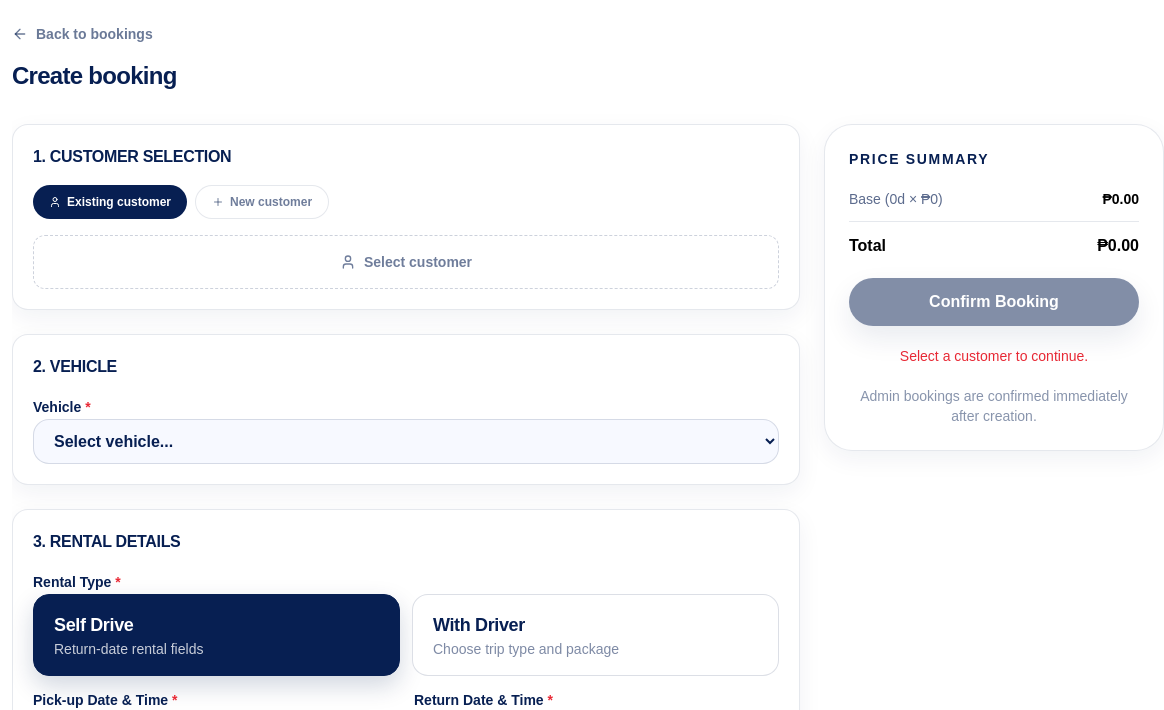
Test: AdminBookingsCreate › switches between existing and new customer modes
Click the button "New customer". click: (262, 202)
box: [195, 185, 329, 219]
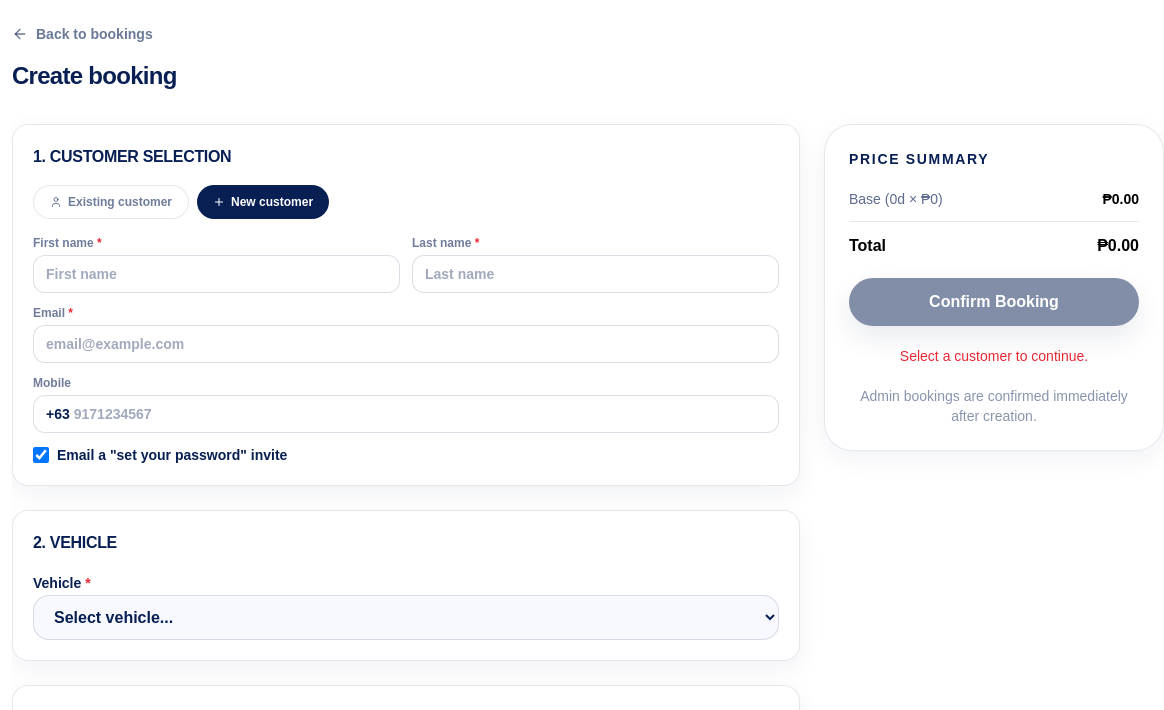
Check: the checkbox labelled "Email a \"set your password\" invite" is checked, box [33, 447, 49, 463]
Click the button "Existing customer". click: (111, 202)
box: [33, 185, 189, 219]
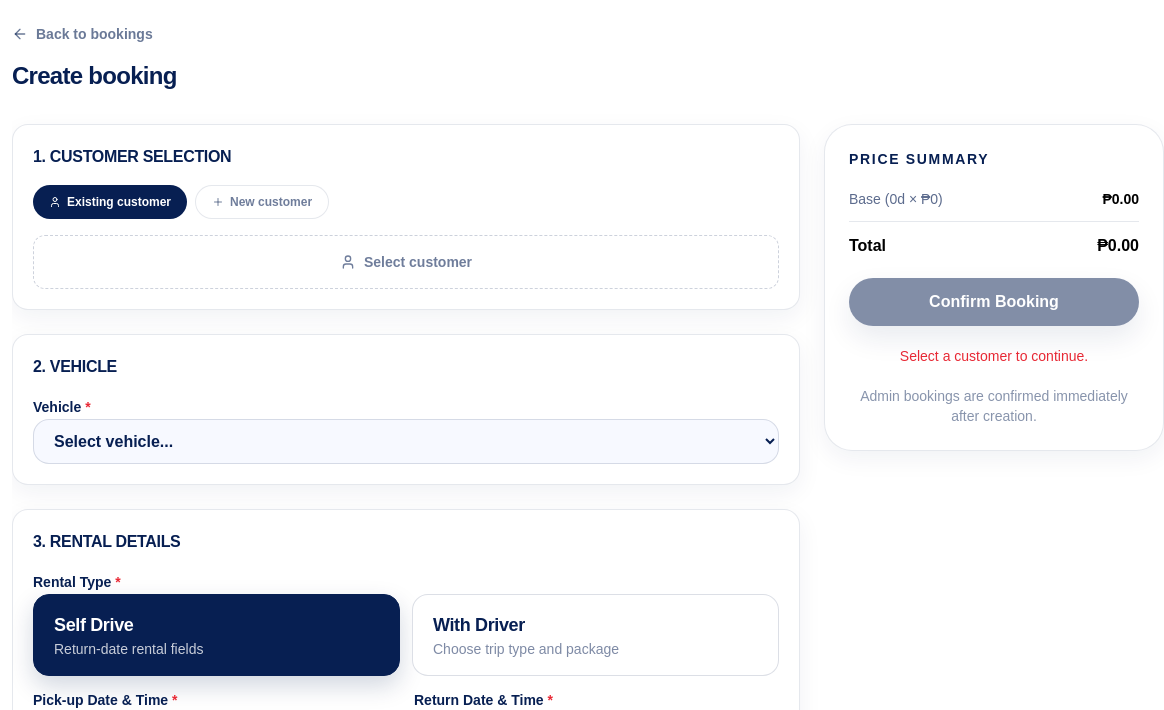
Check: the button "Select customer" is shown, box [33, 235, 779, 289]
